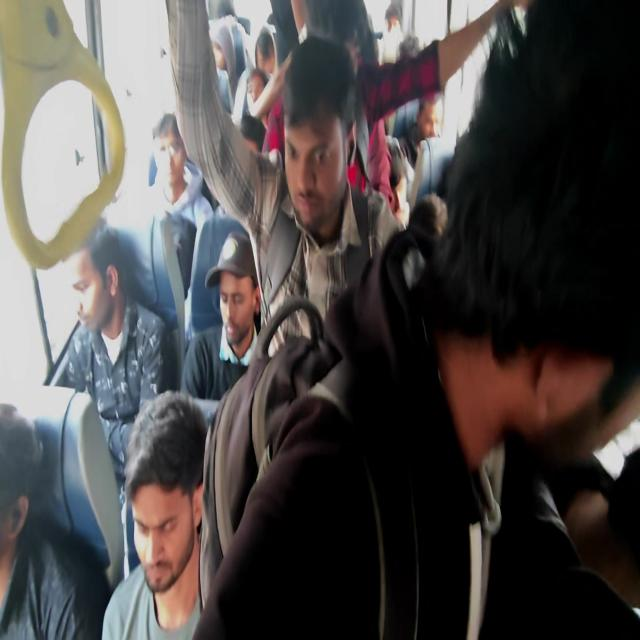person: (483, 27, 640, 485), (122, 420, 266, 640), (211, 254, 277, 393), (61, 232, 129, 366), (285, 72, 351, 191), (0, 411, 52, 549), (376, 142, 416, 239), (144, 136, 195, 203), (206, 24, 233, 96), (247, 79, 278, 137), (416, 90, 445, 148), (386, 2, 408, 54), (257, 36, 279, 68)
